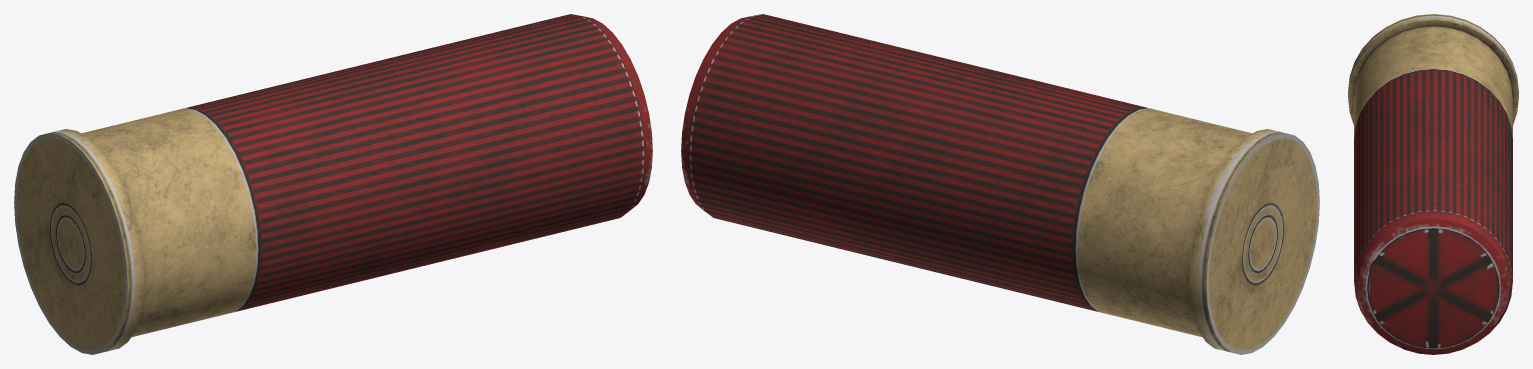
The model's file is SM_Ammo_12Gauge.fbx.
The picture shows the model from 3 angles, left to right: view 1: azimuth 30°, elevation 25°; view 2: azimuth 150°, elevation 25°; view 3: azimuth 270°, elevation 25°; orthographic projection. The views are drawn at different scales.
Visible parts, largest first — view 1: SM_Ammo_12Gauge_LOD0; view 2: SM_Ammo_12Gauge_LOD0; view 3: SM_Ammo_12Gauge_LOD0.
Part boxes in pixels (x1=…): SM_Ammo_12Gauge_LOD0: x1=14, y1=14, x2=652, y2=354; SM_Ammo_12Gauge_LOD0: x1=681, y1=14, x2=1319, y2=354; SM_Ammo_12Gauge_LOD0: x1=1348, y1=14, x2=1518, y2=354.
Bounding box in the file's own units: 6.22 × 2.28 × 2.28.
Materials: 1 (1 with a texture image).
